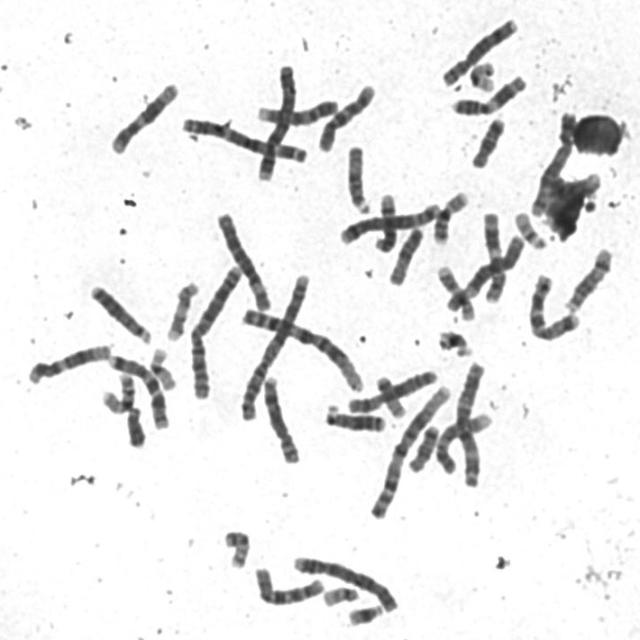A1: (364, 377, 454, 521), (236, 300, 367, 394)
A2: (233, 267, 313, 422), (183, 258, 245, 402)
A3: (177, 109, 311, 165), (449, 354, 488, 489)
B4: (286, 549, 401, 615), (252, 56, 300, 184)
B5: (526, 104, 580, 219), (334, 197, 442, 245)
C10: (313, 76, 379, 153), (248, 559, 327, 607)
C11: (445, 68, 530, 118), (478, 205, 508, 304)
C12: (104, 74, 182, 155), (20, 336, 114, 385)
C6: (440, 228, 526, 314), (210, 204, 274, 312)
C7: (102, 346, 171, 430), (523, 266, 583, 343)
C8: (436, 10, 521, 88), (257, 368, 304, 465)
C9: (430, 404, 496, 476), (250, 91, 340, 127)
D13: (84, 276, 153, 344), (319, 398, 388, 433)
D14: (560, 240, 616, 314), (370, 186, 400, 254)
D15: (382, 220, 426, 287), (341, 137, 374, 216)
E16: (426, 184, 471, 245), (96, 366, 137, 415)
E17: (432, 257, 478, 322), (160, 274, 202, 342)
E18: (466, 110, 508, 169), (402, 418, 442, 474)
F19: (143, 341, 180, 392), (463, 54, 498, 94)
F20: (370, 369, 408, 418), (218, 522, 252, 571)
G21: (432, 322, 476, 358), (342, 596, 386, 628)
G22: (509, 204, 550, 251), (318, 578, 362, 608)
X: (342, 362, 441, 414)
Y: (120, 399, 148, 448)
